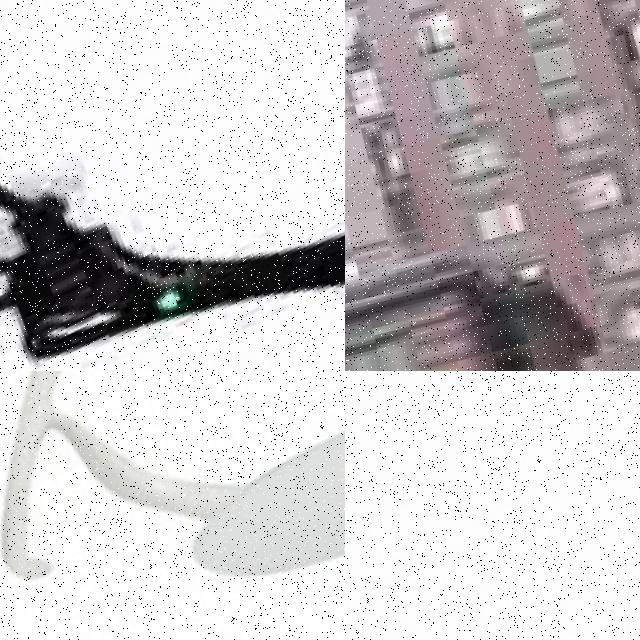0: (0, 0, 345, 371), (345, 401, 640, 640)
drone: (0, 371, 345, 640)
